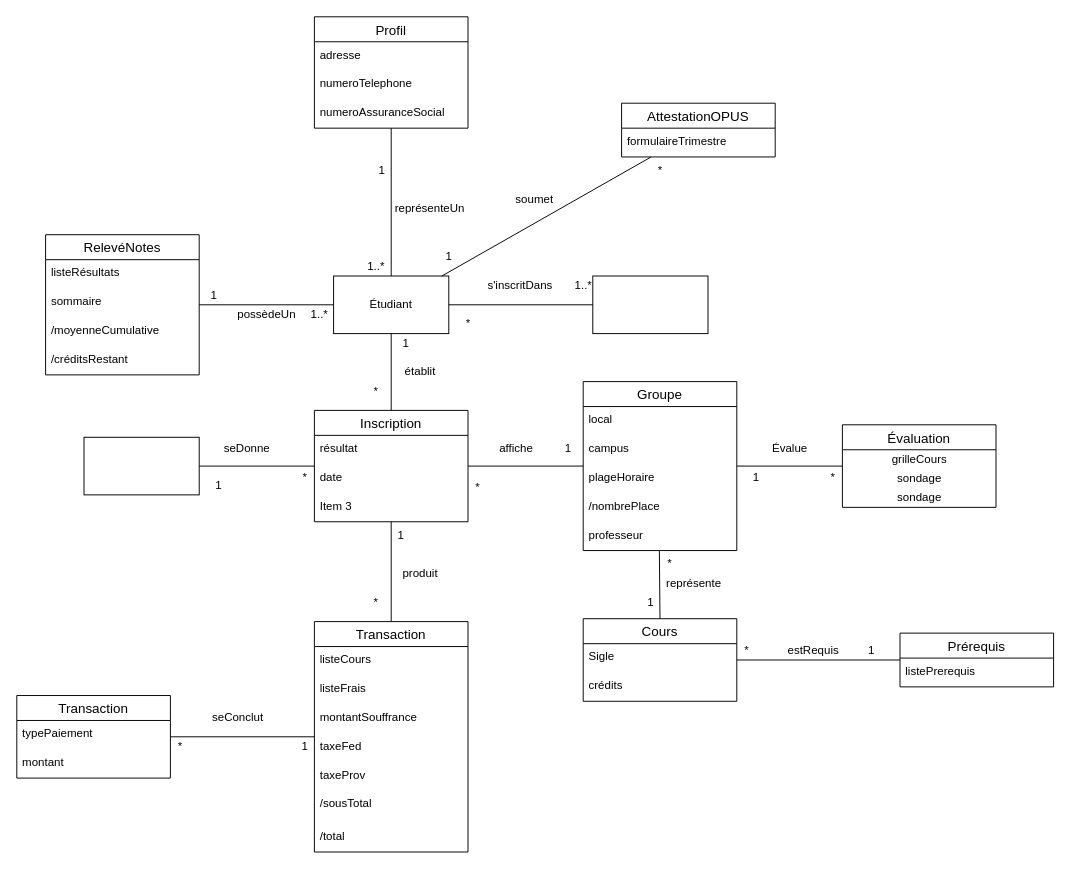
Image size: 1070x872. Some labels were removed from this diagram. Here are the shapes that lost their labels. From the top down, the centre of each, then its label:
At point (650, 304): "Programme".
At point (141, 465): "Trimestre".
